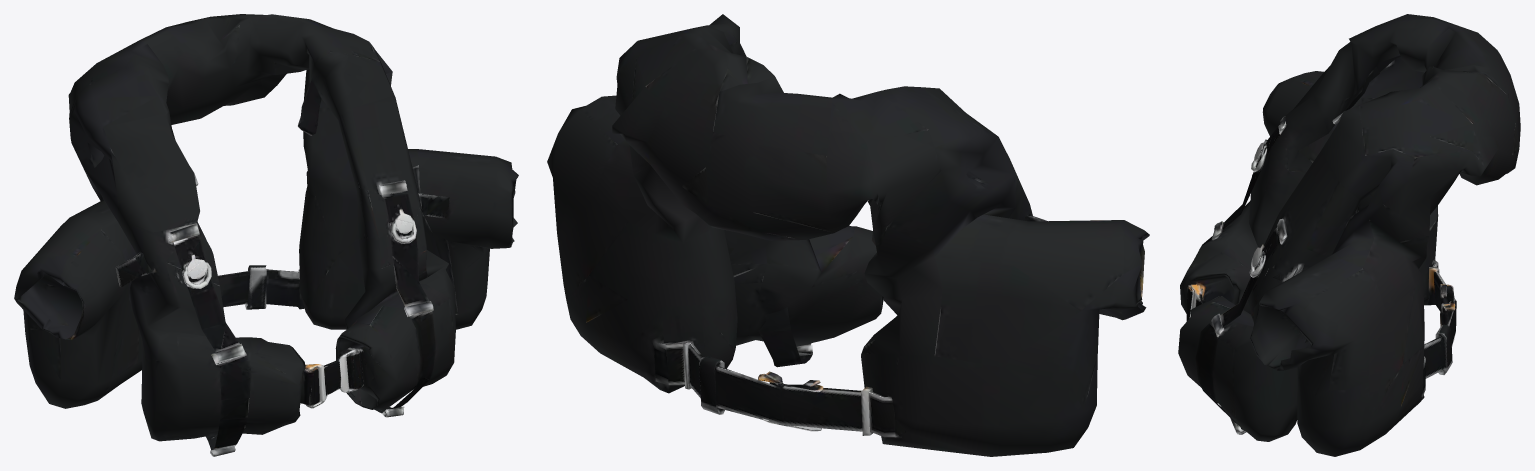
Rendered from life_vest.glb.
3 views of the same model, side by side, from view 1: azimuth 30°, elevation 25°; view 2: azimuth 150°, elevation 25°; view 3: azimuth 270°, elevation 25° (orthographic). The views are drawn at different scales.
Size of the model in its own units: 0.9044 by 0.6 by 0.5493.
Materials: 1 (1 with a texture image).
